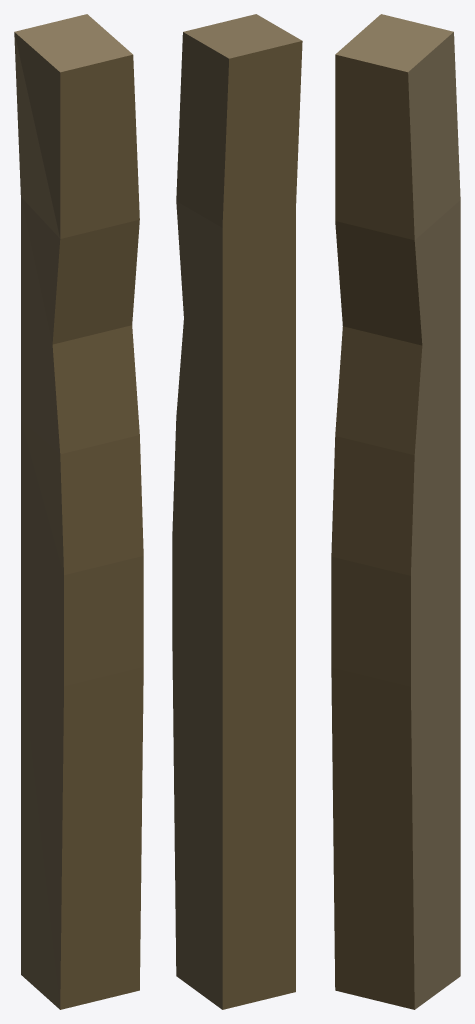
3 renders of one model, left to right at view 1: azimuth 30°, elevation 25°; view 2: azimuth 210°, elevation 25°; view 3: azimuth 330°, elevation 25°, orthographic.
Size of the model in its own units: 12 by 136 by 13.
1 material, 1 textured.
